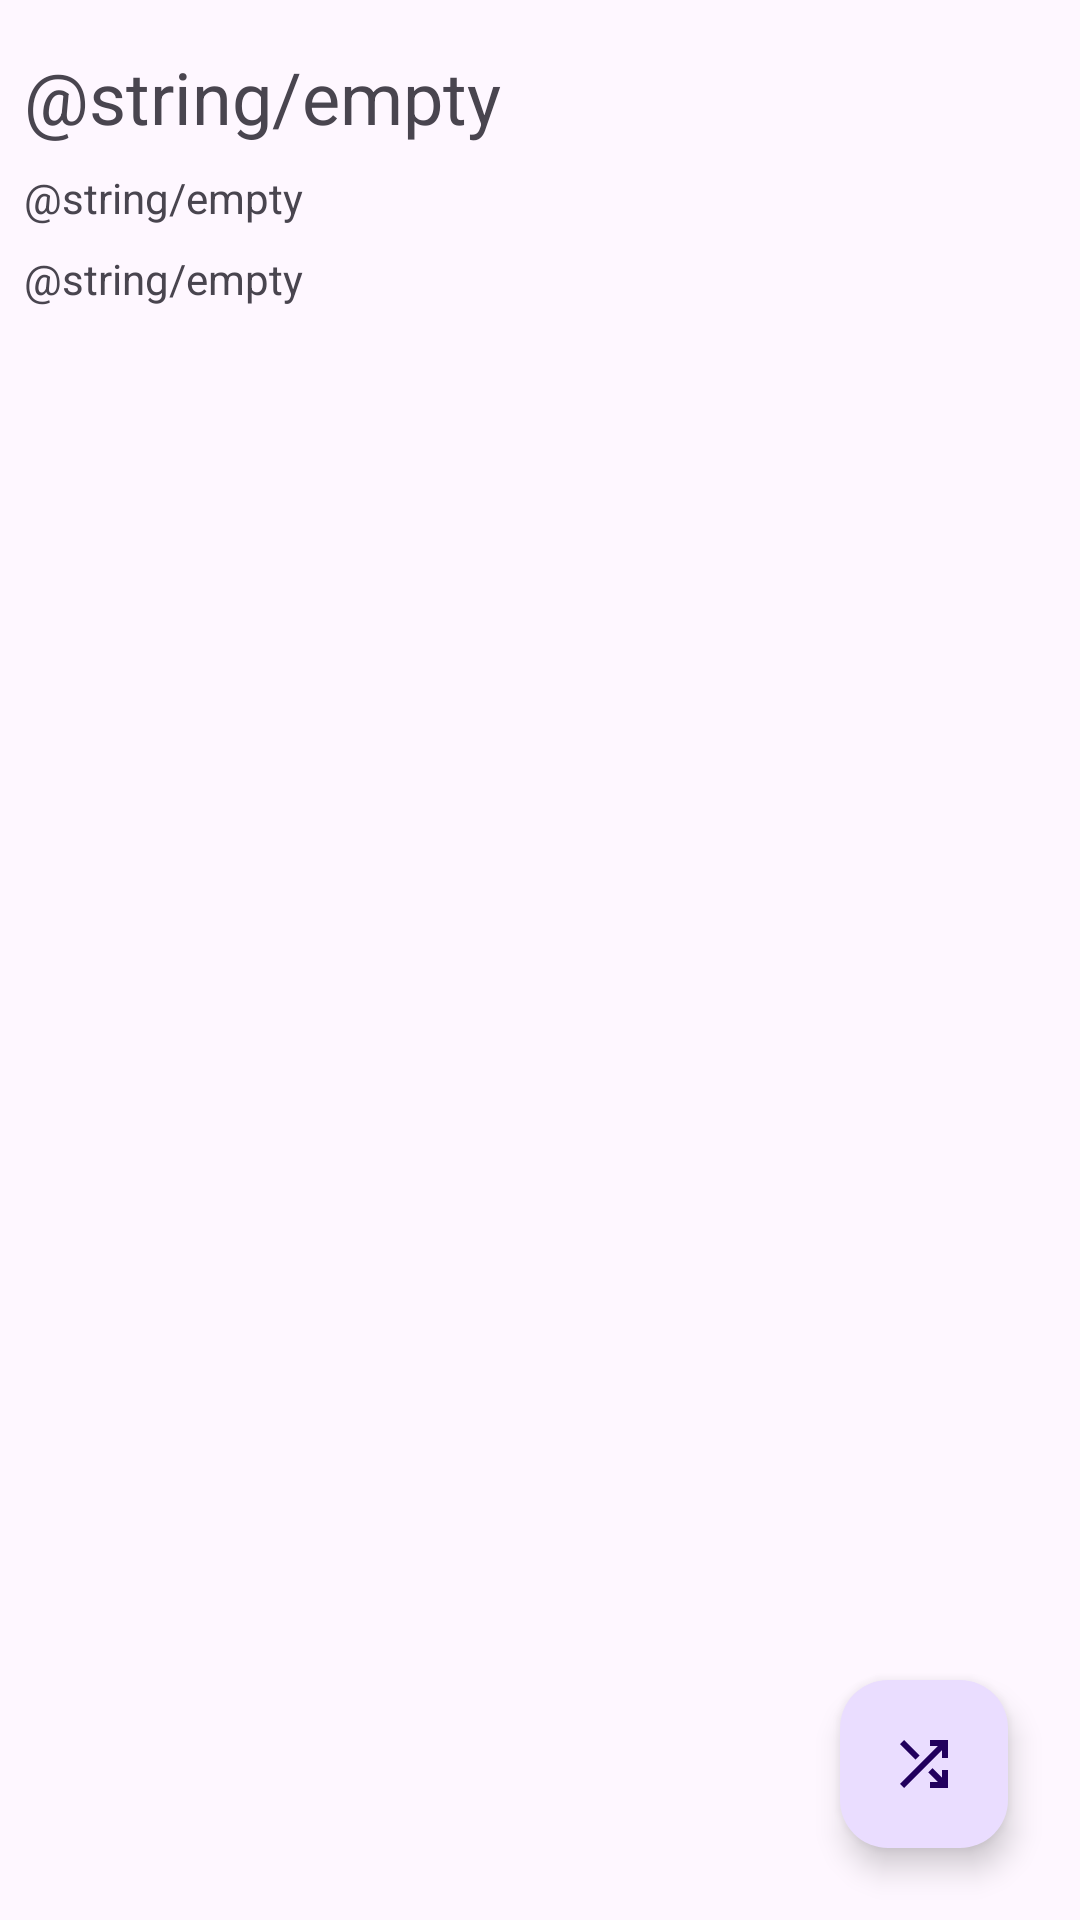

Icon click points for this 1080×1920 phone screenshot, format (x=x, y=y):
shuffle: (x=924, y=1764)
